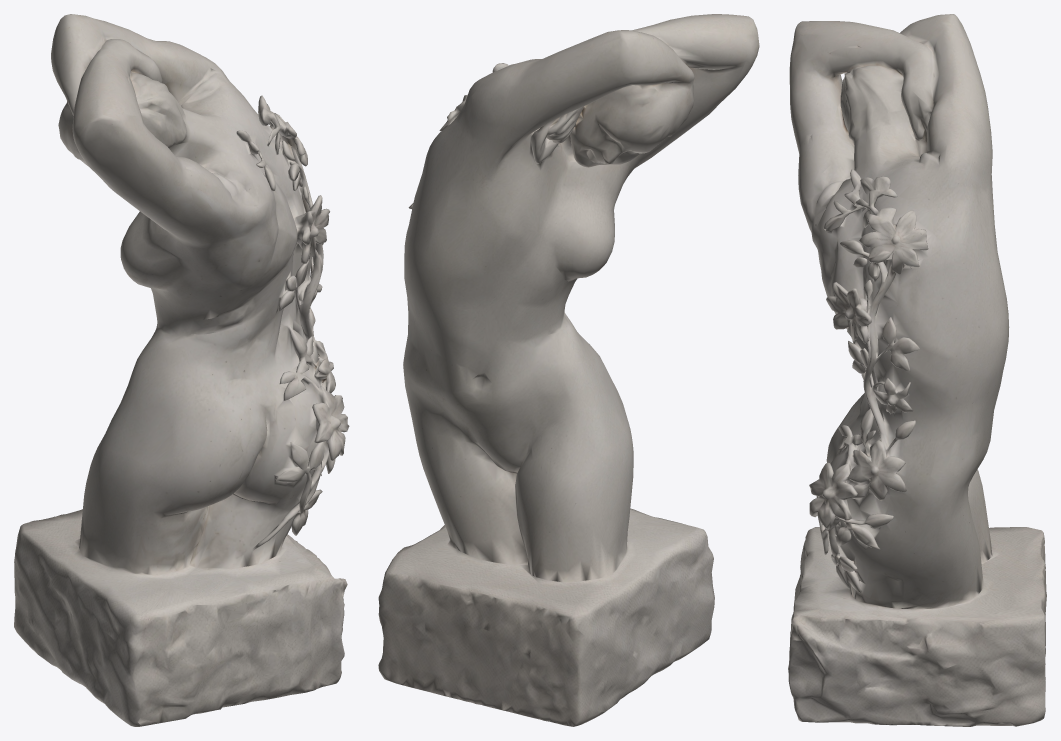
The model's file is bloom.glb.
The picture shows the model from 3 angles, left to right: view 1: azimuth 30°, elevation 25°; view 2: azimuth 150°, elevation 25°; view 3: azimuth 270°, elevation 25°; orthographic projection. The views are drawn at different scales.
Visible parts, largest first — view 1: Mesh_0; view 2: Mesh_0; view 3: Mesh_0.
Boxes of the visible parts, bbox=[...] form: Mesh_0: bbox=[14, 14, 349, 726]; Mesh_0: bbox=[378, 14, 759, 726]; Mesh_0: bbox=[788, 14, 1046, 726].
Bounding box in the file's own units: 0.5062 × 1.09 × 0.4099.
1 material, 1 textured.
